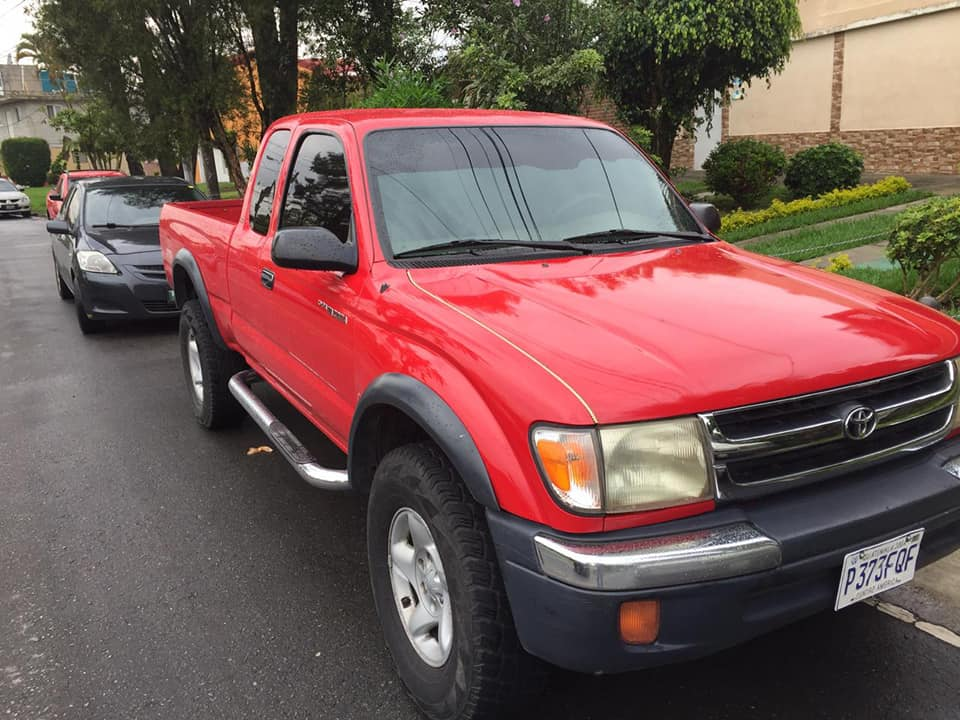pickup: (162, 103, 960, 717)
